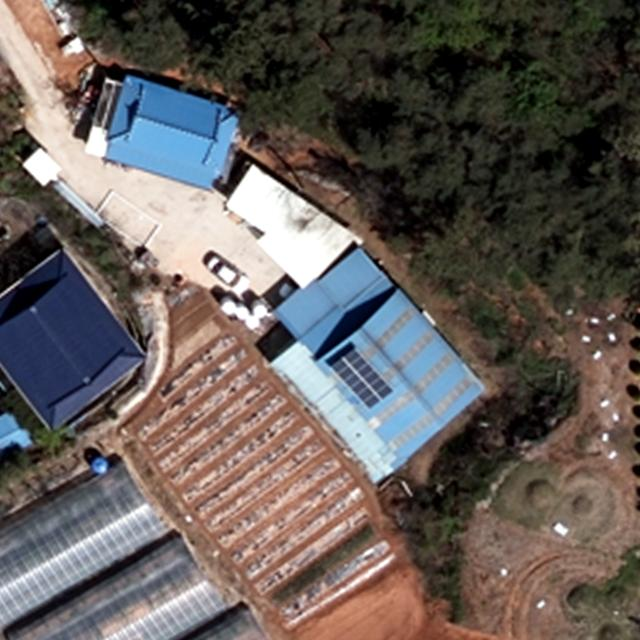panel: (327, 346, 397, 410)
